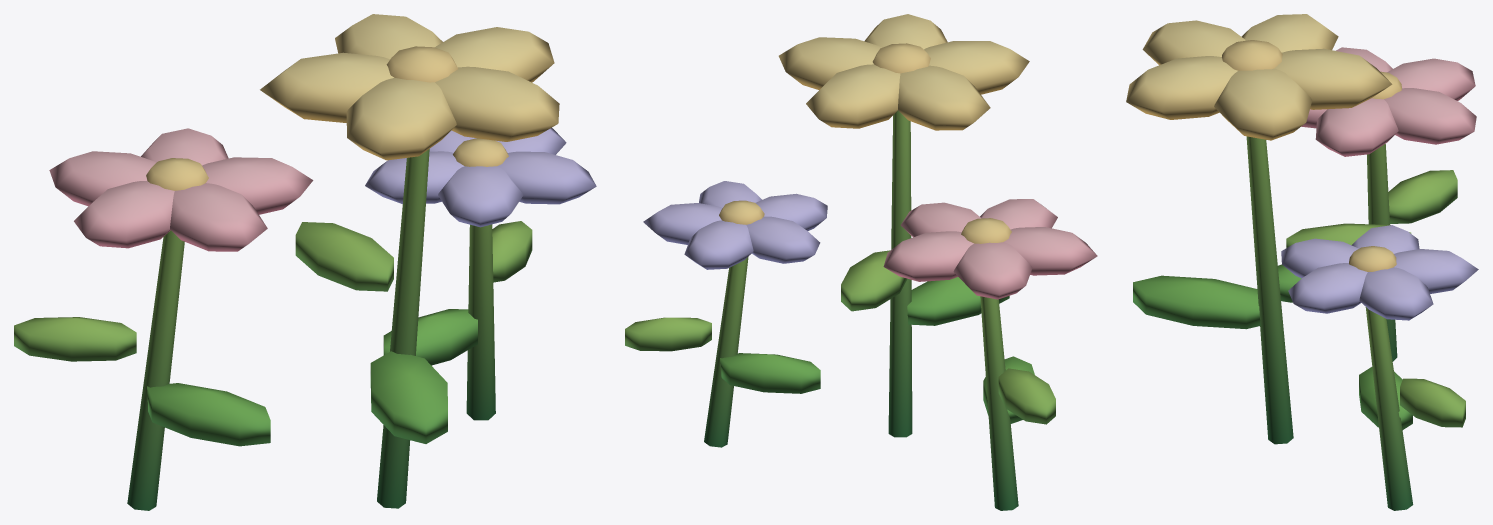
File: Origin_Bloom_Cluster.glb
3 renders of one model, left to right at view 1: azimuth 30°, elevation 25°; view 2: azimuth 150°, elevation 25°; view 3: azimuth 270°, elevation 25°, orthographic. The views are drawn at different scales.
Visible parts, largest first — view 1: Origin_Bloom_Cluster; view 2: Origin_Bloom_Cluster; view 3: Origin_Bloom_Cluster.
Part boxes in pixels (x1=…): Origin_Bloom_Cluster: x1=14, y1=14, x2=596, y2=510; Origin_Bloom_Cluster: x1=625, y1=14, x2=1097, y2=510; Origin_Bloom_Cluster: x1=1126, y1=14, x2=1478, y2=510.
Bounding box in the file's own units: 0.6534 × 0.5561 × 0.4423.
